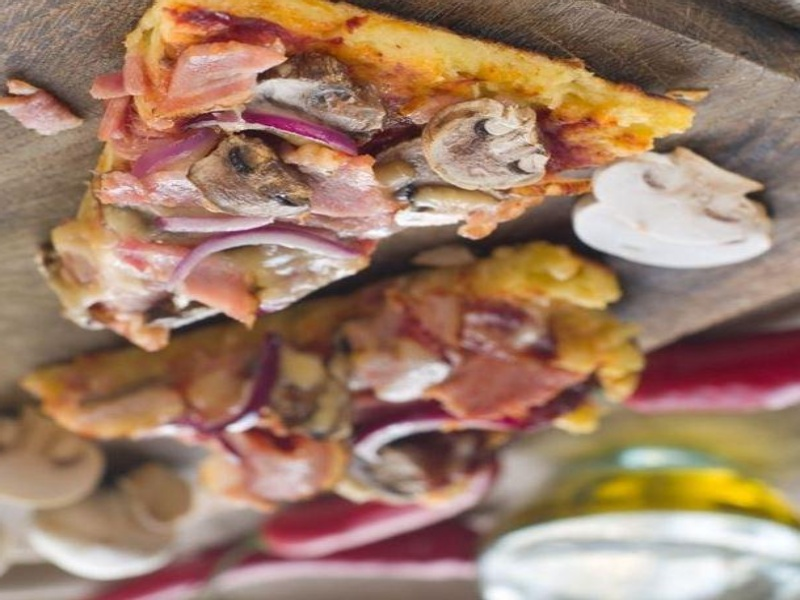champignon: (183, 130, 323, 230), (417, 92, 552, 194)
